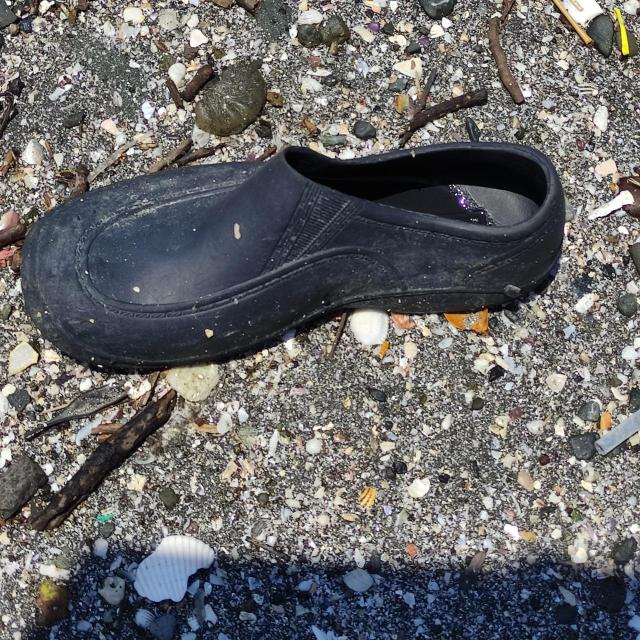rubber_waste: (19, 141, 567, 369)
